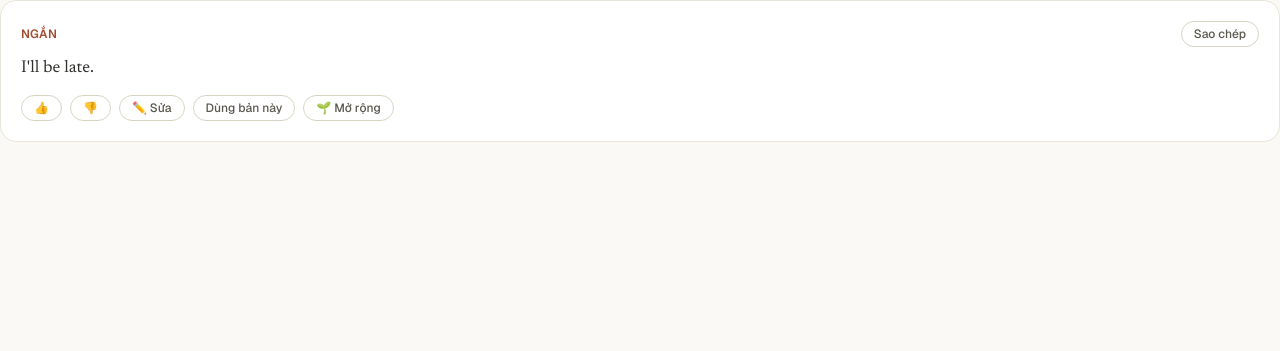
DevelopableOption › shows the reply with a Develop button, and the panel only once it is opened
The image size is (1280, 351).
Expected: the button named "Bản nháp hay" is shown, [21,95,62,121]
Expected: the text "I'll be late." is shown, [21,60,94,77]
Click the button with aria-label "Mở rộng bản nháp này". click: [349, 108]
box: [303,95,394,121]
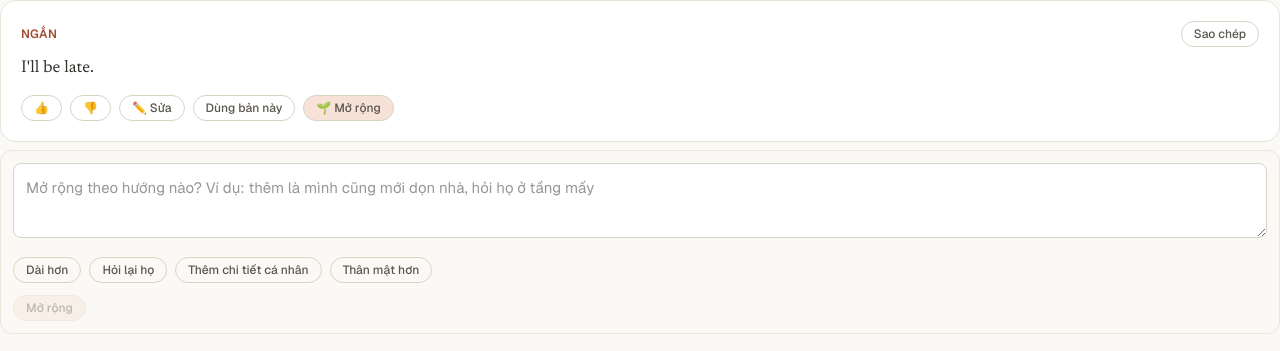
Expected: the button "Dài hơn" is shown, [13,257,81,283]
Expected: the button "Hỏi lại họ" is shown, [89,257,167,283]
Expected: the button "Thêm chi tiết cá nhân" is shown, [175,257,322,283]
